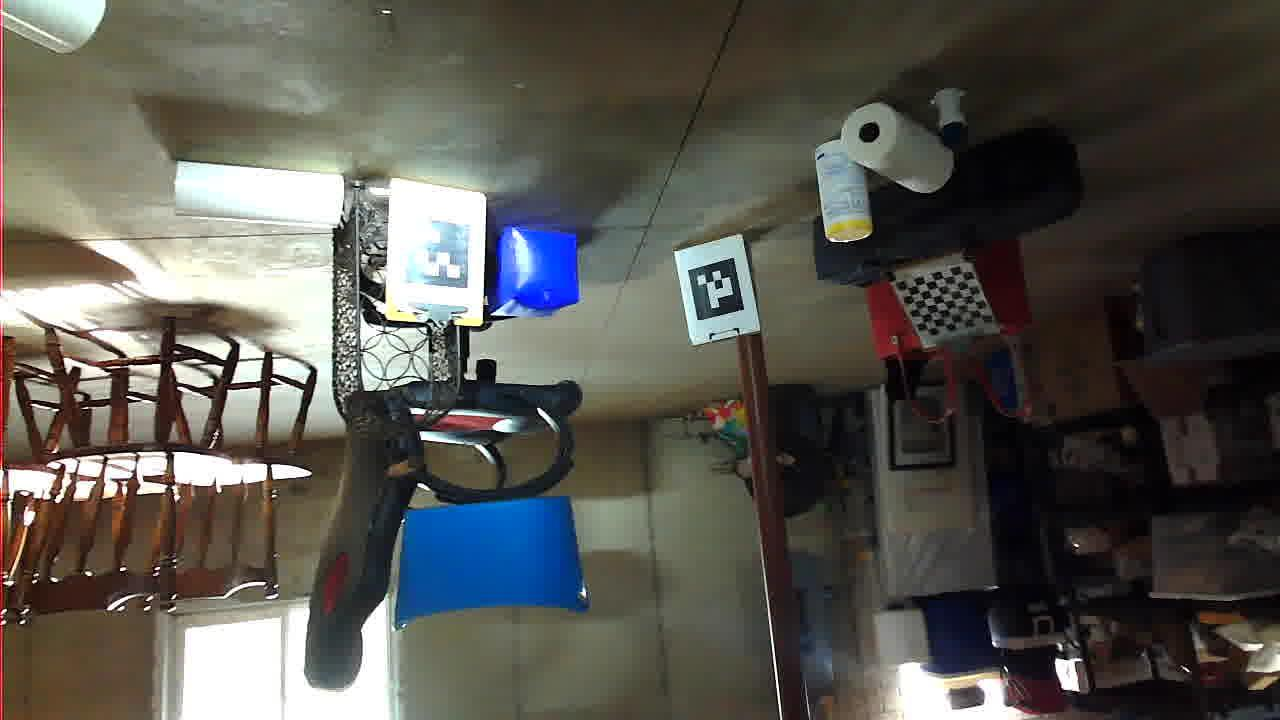coral: (937, 491, 1106, 560), (1171, 665, 1276, 720)
